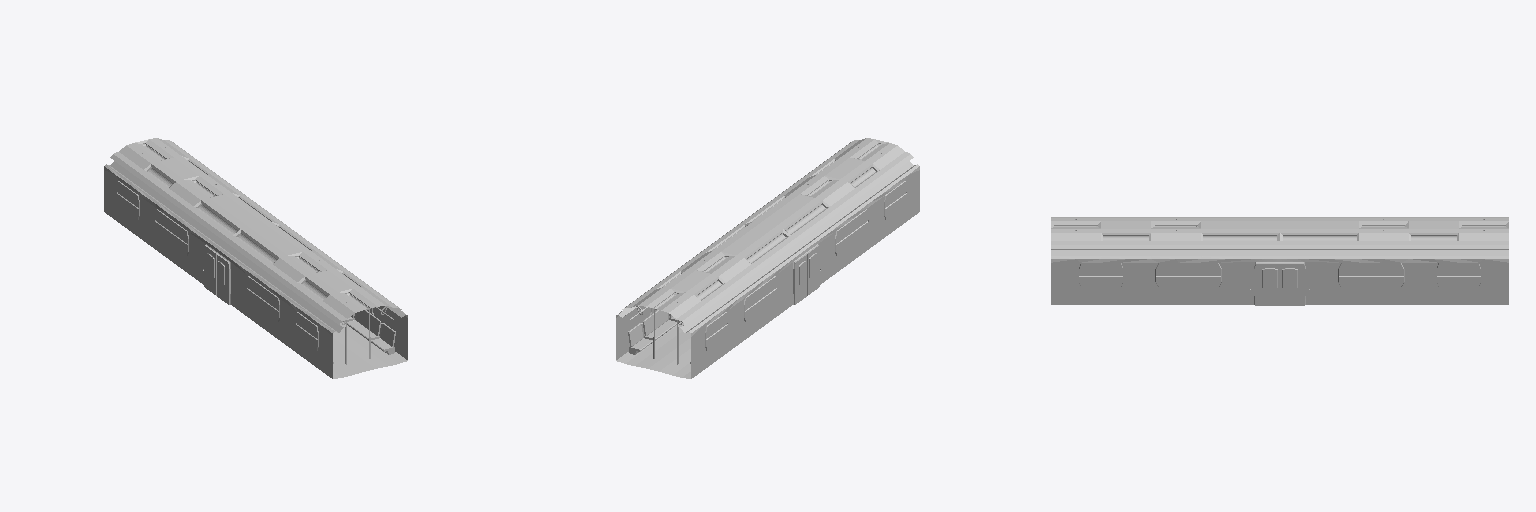
Rendered from subway (with modifiers).obj.
3 views of the same model, side by side, from view 1: azimuth 30°, elevation 25°; view 2: azimuth 150°, elevation 25°; view 3: azimuth 270°, elevation 25° (orthographic).
Parts seen in each view (by area): view 1: Subway_Cube.001; view 2: Subway_Cube.001; view 3: Subway_Cube.001.
Part boxes in pixels (x1,y1,x2,y2): Subway_Cube.001: (104, 138, 407, 378); Subway_Cube.001: (616, 138, 919, 378); Subway_Cube.001: (1051, 217, 1508, 305).
Size of the model in its own units: 2.82 by 2.06 by 13.71.